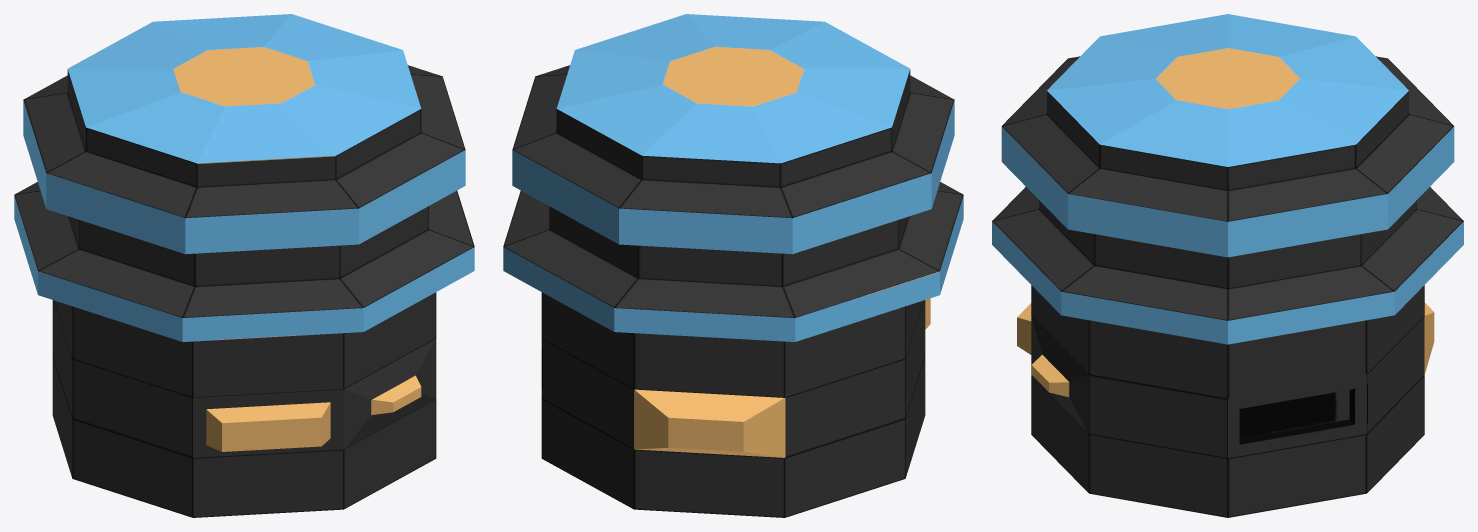
The model's file is SSCShieldGen1.fbx.
3 views of the same model, side by side, from view 1: azimuth 30°, elevation 25°; view 2: azimuth 150°, elevation 25°; view 3: azimuth 270°, elevation 25° (orthographic).
Visible parts, largest first — view 1: SSCShieldGen1; view 2: SSCShieldGen1; view 3: SSCShieldGen1.
Boxes of the visible parts, <box> form: SSCShieldGen1: <box>14,14,474,517</box>; SSCShieldGen1: <box>503,14,963,517</box>; SSCShieldGen1: <box>992,14,1463,517</box>.
Bounding box in the file's own units: 3600 × 3000 × 3600.
